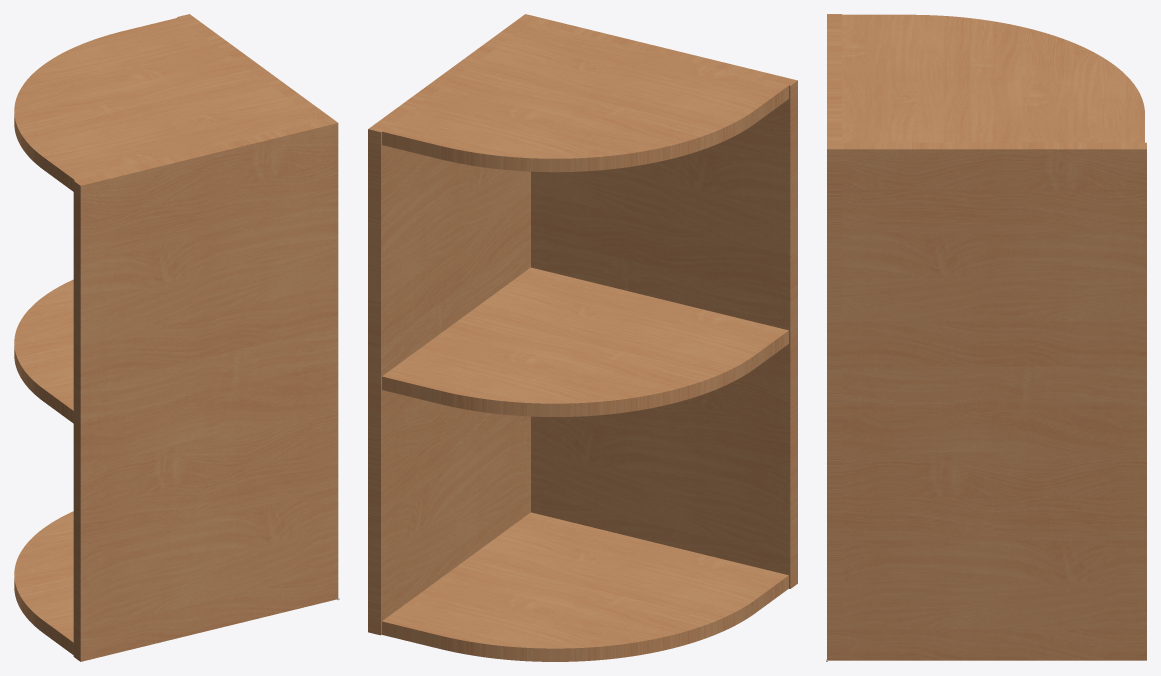
Rendered from antresol_dlya_konsoli.glb.
3 views of the same model, side by side, from view 1: azimuth 30°, elevation 25°; view 2: azimuth 150°, elevation 25°; view 3: azimuth 270°, elevation 25° (orthographic). The views are drawn at different scales.
Visible parts, largest first — view 1: Shape_IndexedFaceSet, Shape_IndexedFaceSet.001, Shape_IndexedFaceSet.002, Shape_IndexedFaceSet.003, Shape_IndexedFaceSet.004; view 2: Shape_IndexedFaceSet, Shape_IndexedFaceSet.004, Shape_IndexedFaceSet.001, Shape_IndexedFaceSet.003, Shape_IndexedFaceSet.002; view 3: Shape_IndexedFaceSet.004, Shape_IndexedFaceSet.001, Shape_IndexedFaceSet.
Part boxes in pixels (x1,y1,x2,y2): Shape_IndexedFaceSet: [73, 118, 338, 661]; Shape_IndexedFaceSet.001: [14, 17, 318, 191]; Shape_IndexedFaceSet.002: [14, 279, 73, 423]; Shape_IndexedFaceSet.003: [14, 511, 73, 654]; Shape_IndexedFaceSet.004: [177, 14, 330, 120]; Shape_IndexedFaceSet: [518, 14, 797, 588]; Shape_IndexedFaceSet.004: [368, 19, 530, 635]; Shape_IndexedFaceSet.001: [382, 22, 788, 172]; Shape_IndexedFaceSet.003: [382, 512, 788, 661]; Shape_IndexedFaceSet.002: [382, 267, 788, 416]; Shape_IndexedFaceSet.004: [842, 142, 1146, 660]; Shape_IndexedFaceSet.001: [842, 14, 1144, 142]; Shape_IndexedFaceSet: [827, 14, 841, 660].
Bounding box in the file's own units: 341 × 601 × 341.
6 materials, 5 textured.
